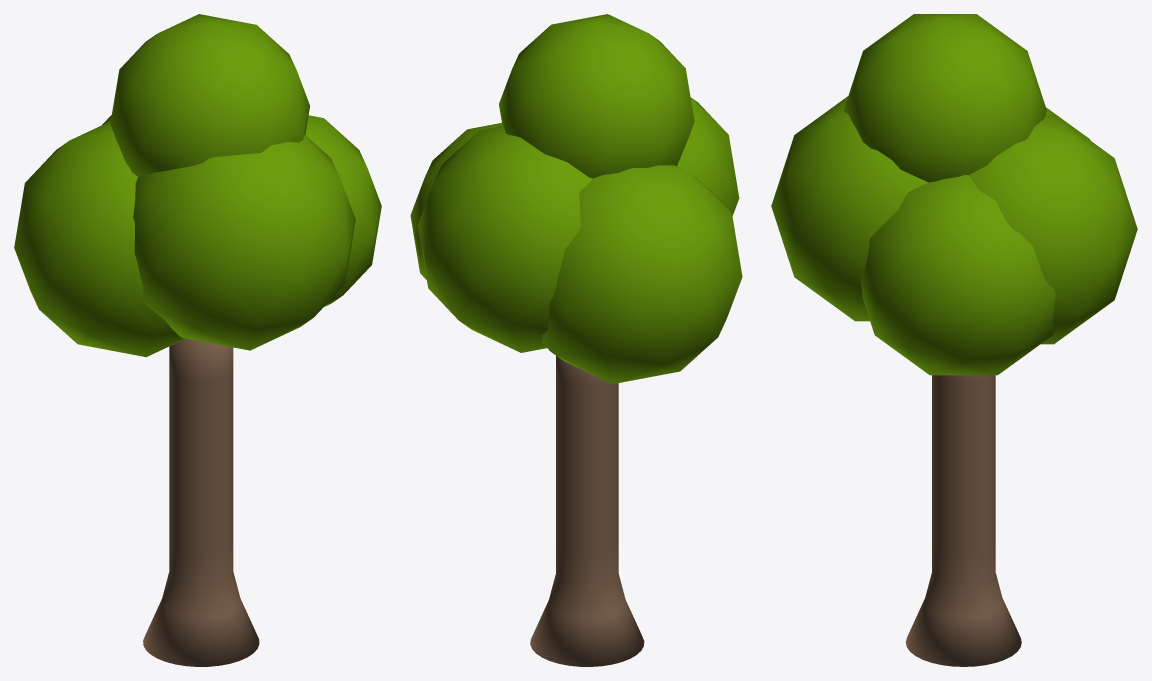
File: tree_noFood.fbx
3 renders of one model, left to right at view 1: azimuth 30°, elevation 25°; view 2: azimuth 150°, elevation 25°; view 3: azimuth 270°, elevation 25°, orthographic. The views are drawn at different scales.
Visible parts, largest first — view 1: core.003, core.004, Cylinder, core.002, core; view 2: core.002, core.001, core.004, Cylinder, core.003, core; view 3: core, core.004, Cylinder, core.001, core.003.
Part boxes in pixels (x1=…): core.003: x1=133, y1=135, x2=355, y2=350; core.004: x1=110, y1=14, x2=309, y2=176; Cylinder: x1=143, y1=338, x2=259, y2=666; core.002: x1=14, y1=121, x2=185, y2=357; core: x1=305, y1=115, x2=381, y2=306; core.002: x1=542, y1=165, x2=742, y2=383; core.001: x1=417, y1=126, x2=592, y2=352; core.004: x1=499, y1=14, x2=694, y2=178; Cylinder: x1=530, y1=356, x2=644, y2=666; core.003: x1=677, y1=97, x2=739, y2=215; core: x1=410, y1=123, x2=502, y2=279; core: x1=860, y1=175, x2=1055, y2=375; core.004: x1=843, y1=14, x2=1046, y2=182; Cylinder: x1=905, y1=375, x2=1021, y2=666; core.001: x1=969, y1=114, x2=1137, y2=344; core.003: x1=771, y1=96, x2=928, y2=321.
Bounding box in the file's own units: 213 × 403 × 214.
